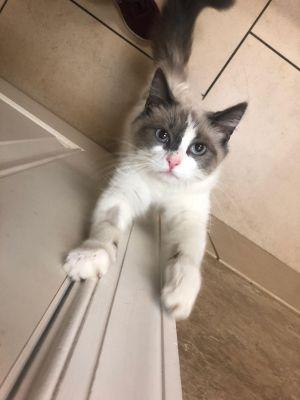ragdoll: (119, 63, 254, 205)
